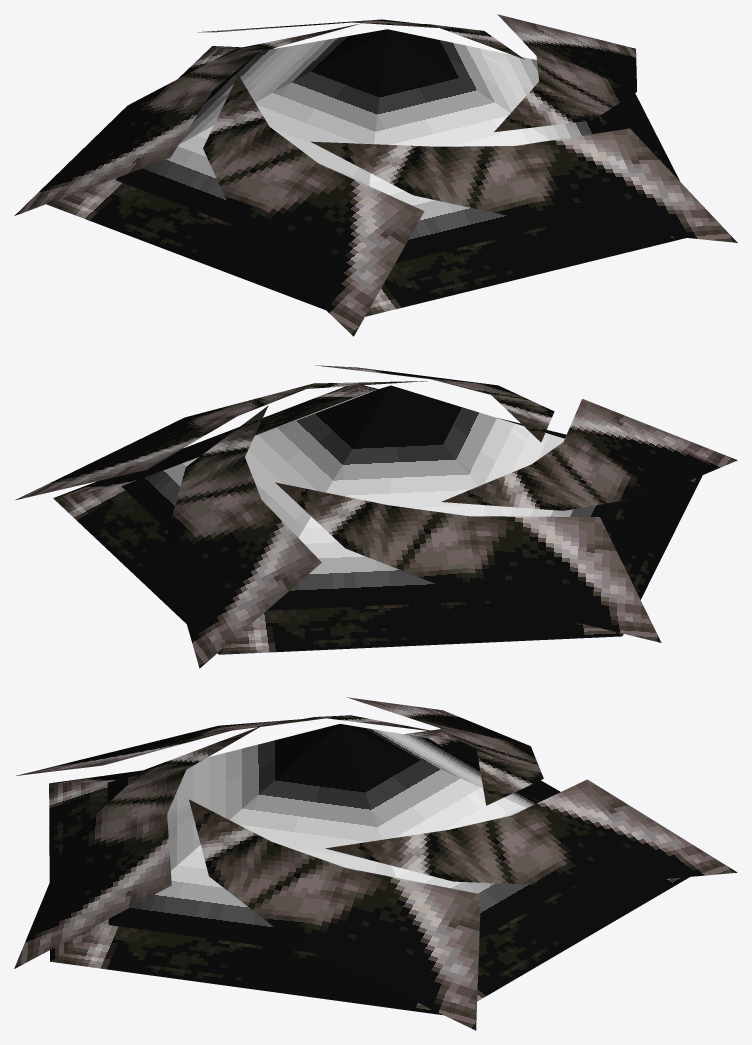
Rendered from jmp.fbx.
The picture shows the model from 3 angles, top to bottom: view 1: azimuth 30°, elevation 25°; view 2: azimuth 150°, elevation 25°; view 3: azimuth 270°, elevation 25°; orthographic projection. The views are drawn at different scales.
Visible parts, largest first — view 1: mesh2, mesh1; view 2: mesh2, mesh1; view 3: mesh2, mesh1.
Boxes of the visible parts, bbox=[...] form: mesh2: bbox=[14, 14, 737, 336]; mesh1: bbox=[115, 29, 605, 263]; mesh2: bbox=[15, 365, 737, 668]; mesh1: bbox=[121, 385, 623, 610]; mesh2: bbox=[14, 697, 737, 1030]; mesh1: bbox=[107, 724, 569, 952].
Size of the model in its own units: 180 by 38.99 by 172.
